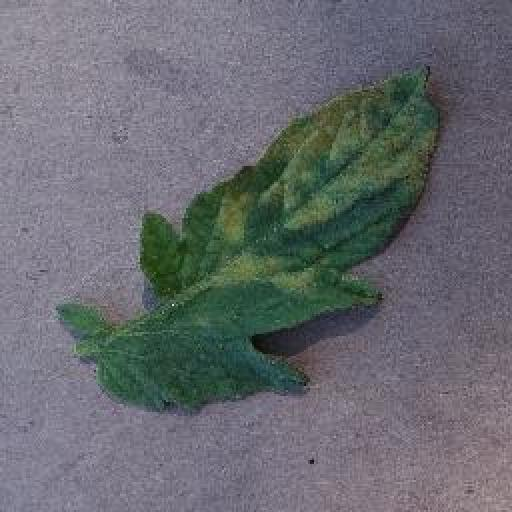Leaf Mold: (62, 58, 439, 414)
